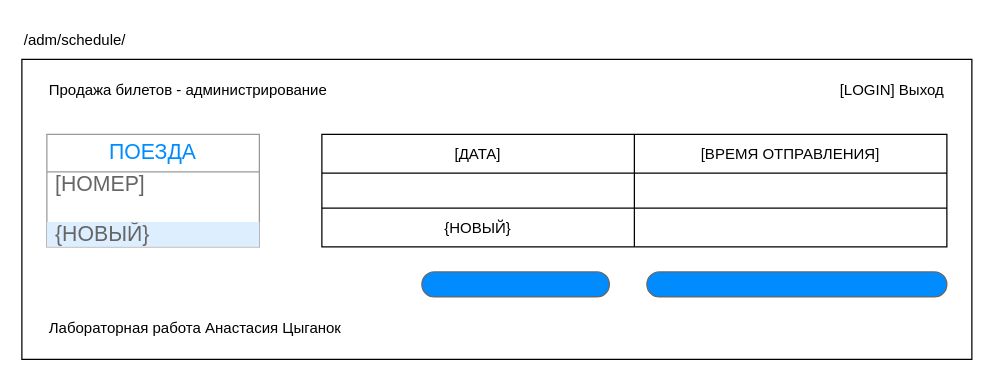
Image size: 994x381. Some labels were removed from this diagram. Each missing label, with the centre of its shape:
СКОПИРОВАТЬ НА ДАТУ: pixel 796 284
УДАЛИТЬ: pixel 515 284
